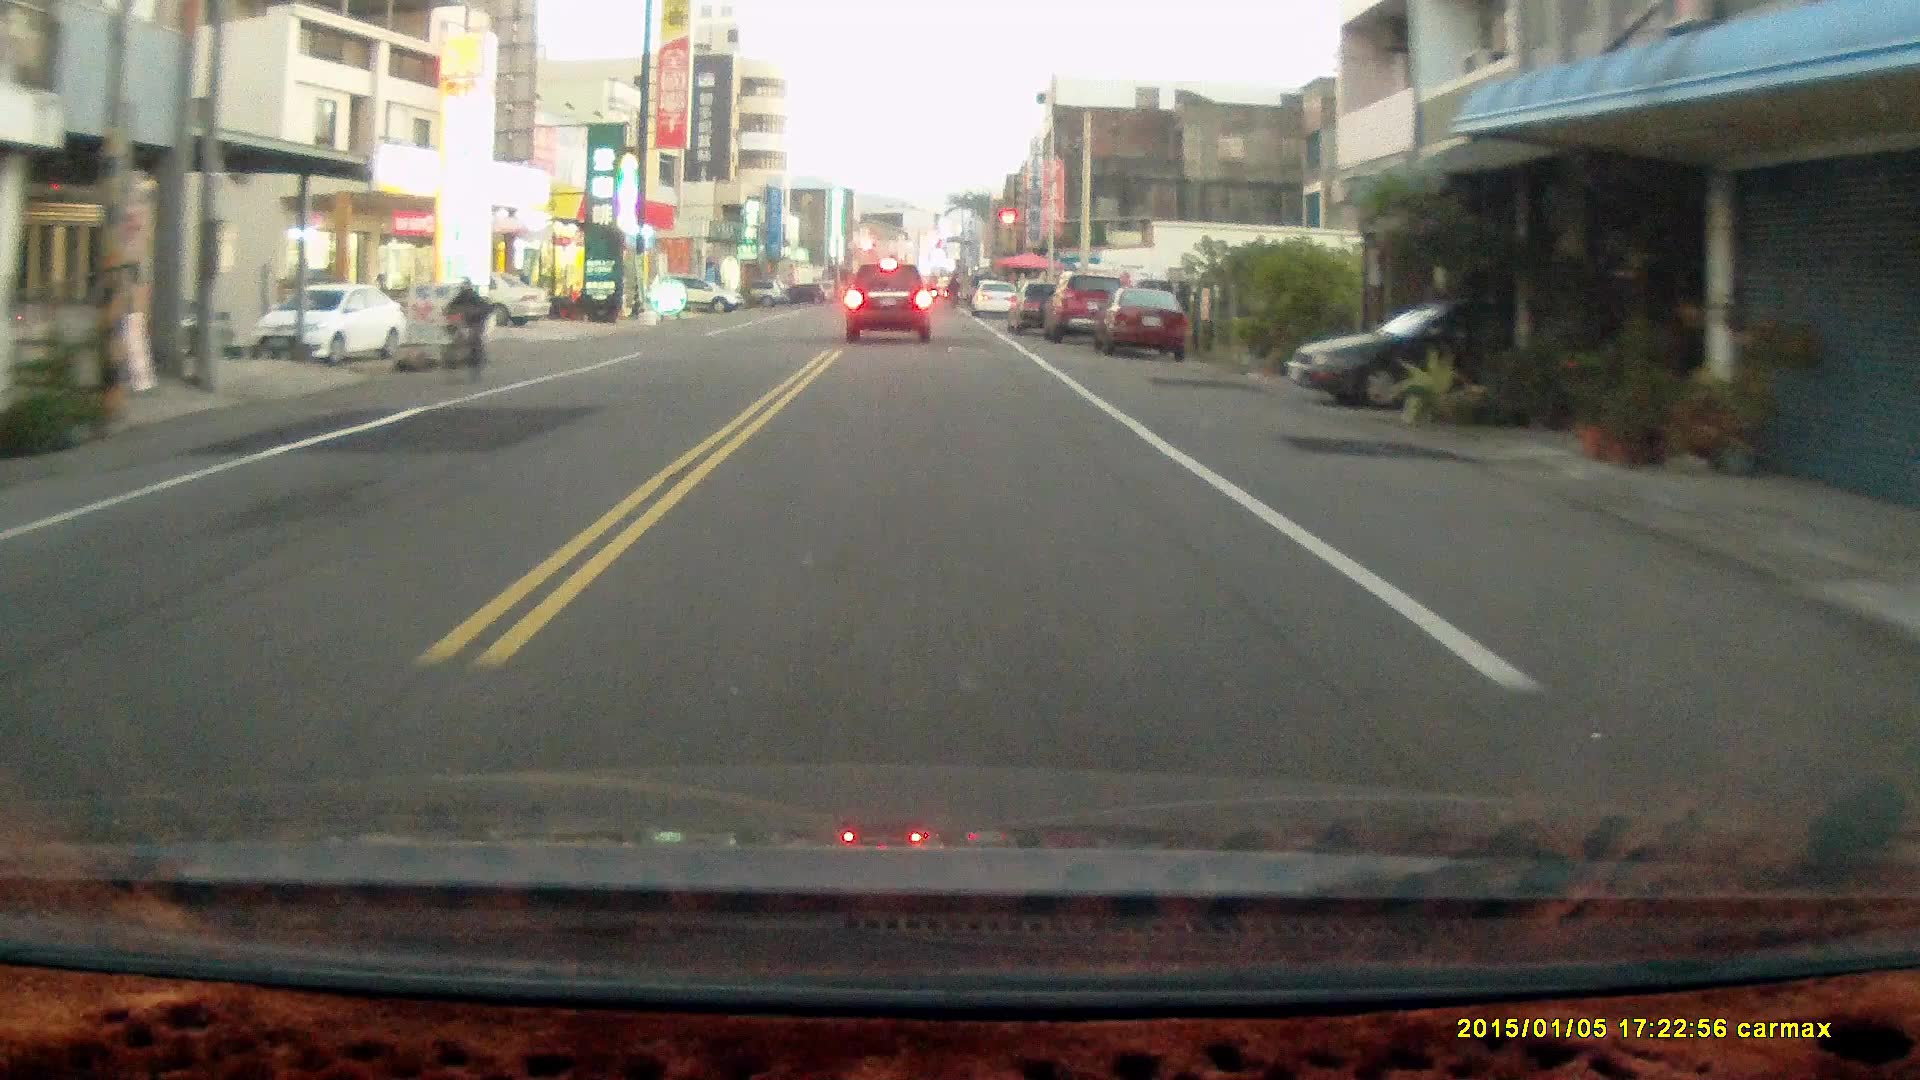rider: (439, 278, 490, 388)
vehicle: (1285, 295, 1666, 413), (254, 290, 405, 373), (406, 278, 555, 336), (1090, 290, 1192, 368), (843, 262, 938, 343), (1046, 273, 1133, 348), (656, 275, 743, 313)
